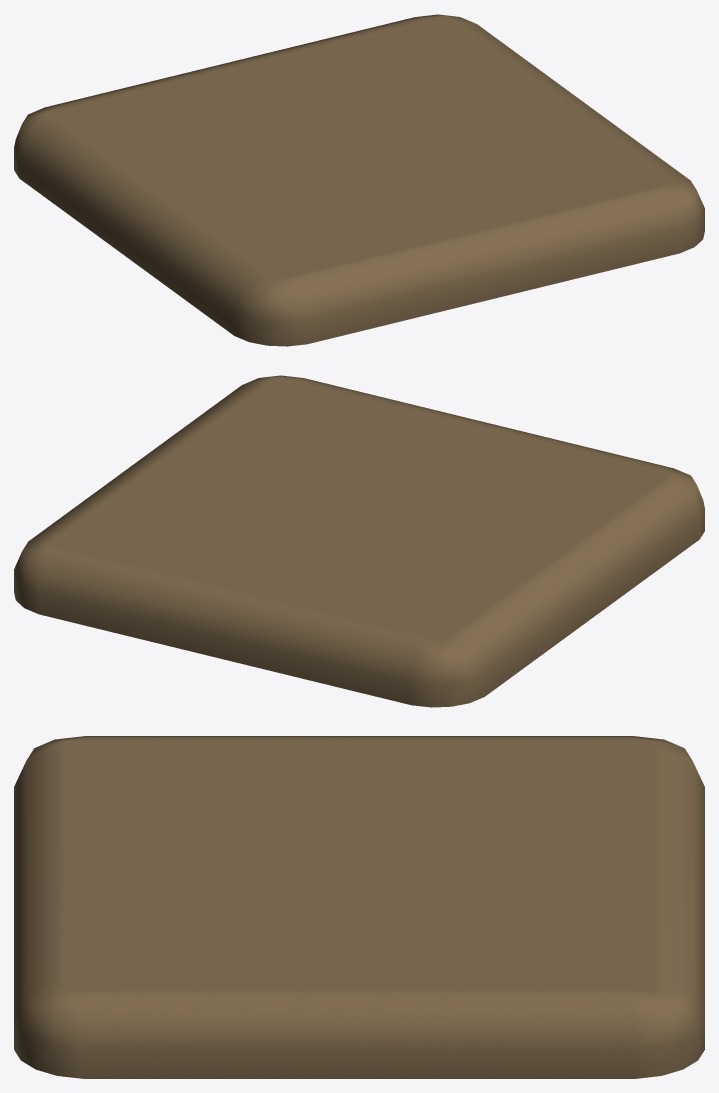
The model's file is SM_Base_Corner_4.fbx.
3 views of the same model, one above another, from view 1: azimuth 30°, elevation 25°; view 2: azimuth 150°, elevation 25°; view 3: azimuth 270°, elevation 25° (orthographic). The views are drawn at different scales.
Visible parts, largest first — view 1: Base_Corner_4; view 2: Base_Corner_4; view 3: Base_Corner_4.
Boxes of the visible parts, x1,y1,x2,y2 form: Base_Corner_4: (14, 14, 704, 346); Base_Corner_4: (14, 375, 704, 707); Base_Corner_4: (14, 736, 704, 1078).
Size of the model in its own units: 200 by 21.42 by 200.
